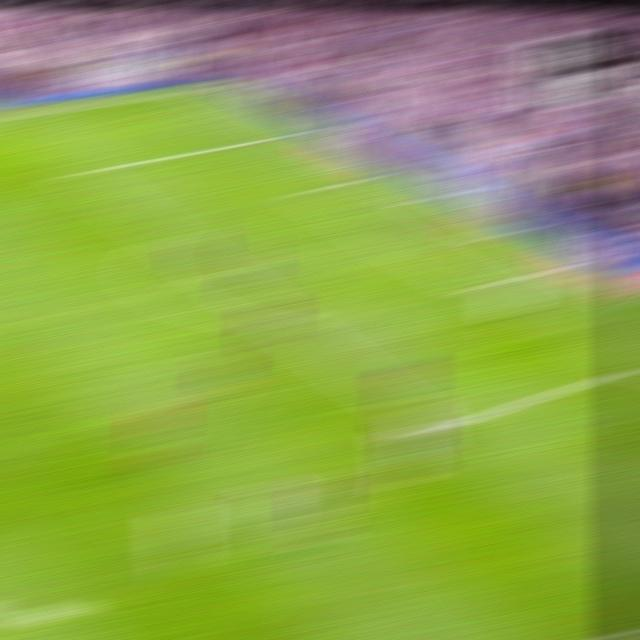bigarea_bottom_inner: (416, 420, 452, 442)
bigarea_top_inner: (62, 164, 94, 179)
bigarea_top_outter: (272, 128, 304, 138)
bottom_arc_area_intersection: (267, 313, 301, 330)
smallarea_bottom_outter: (540, 260, 572, 270)
smallarea_top_inner: (292, 187, 322, 196)
top_arc_area_intersection: (146, 226, 179, 239)
